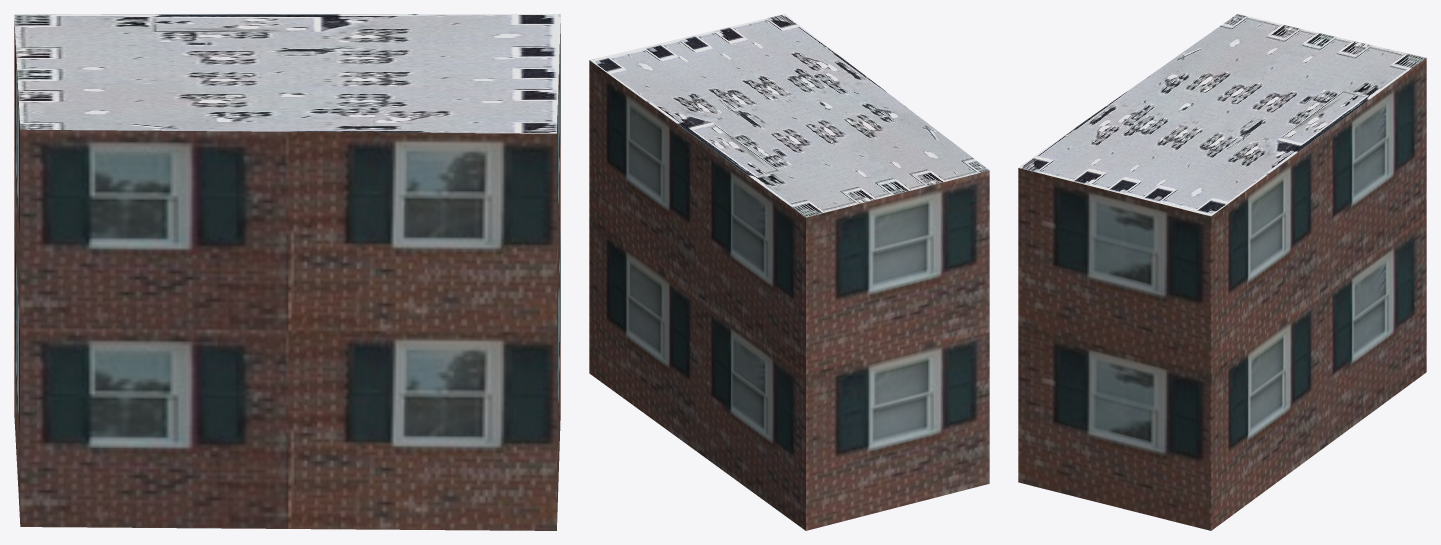
Rendered from ResTex__1134.fbx.
3 views of the same model, side by side, from view 1: azimuth 30°, elevation 25°; view 2: azimuth 150°, elevation 25°; view 3: azimuth 270°, elevation 25° (orthographic). The views are drawn at different scales.
Parts seen in each view (by area): view 1: CityEngineMaterial_14_m, CityEngineMaterial_2_m; view 2: CityEngineMaterial_14_m, CityEngineMaterial_2_m; view 3: CityEngineMaterial_14_m, CityEngineMaterial_2_m.
Part boxes in pixels (x1,y1,x2,y2): CityEngineMaterial_14_m: (14,20,560,530); CityEngineMaterial_2_m: (14,14,560,133); CityEngineMaterial_14_m: (589,60,989,530); CityEngineMaterial_2_m: (589,14,989,217); CityEngineMaterial_14_m: (1018,58,1426,530); CityEngineMaterial_2_m: (1018,14,1426,216).
Size of the model in its own units: 8.28 by 6 by 7.06.
2 materials, 2 textured.
